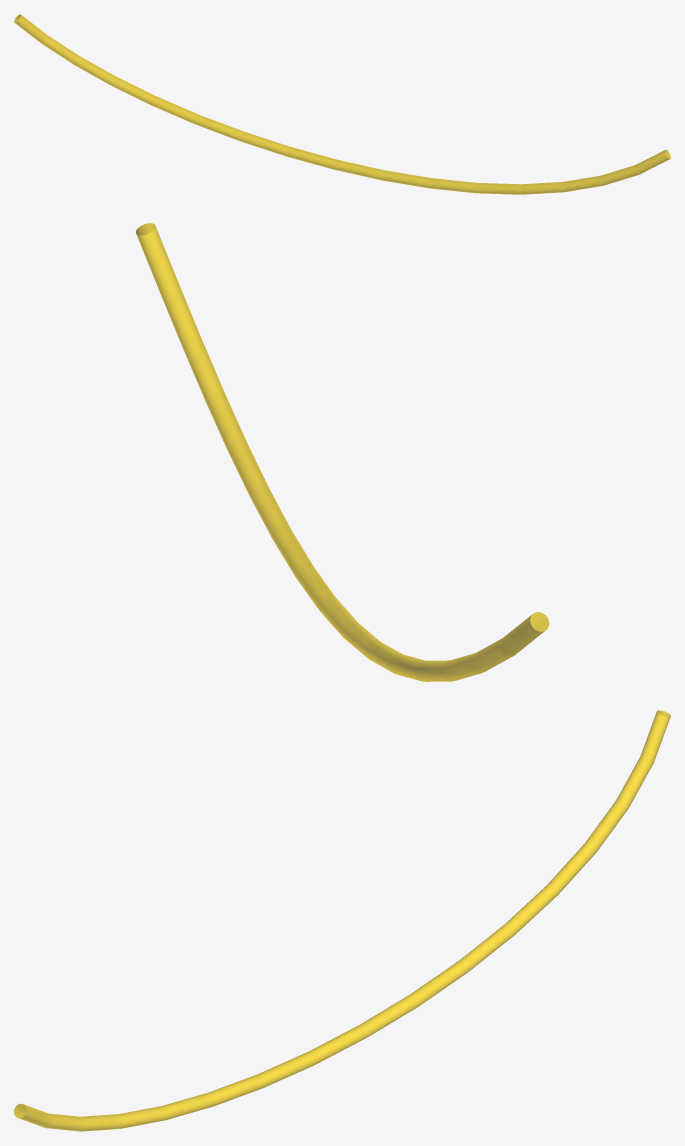
File: Event_17758602_track_128.fbx
3 views of the same model, one above another, from view 1: azimuth 30°, elevation 25°; view 2: azimuth 150°, elevation 25°; view 3: azimuth 270°, elevation 25° (orthographic). The views are drawn at different scales.
Parts seen in each view (by area): view 1: Model; view 2: Model; view 3: Model.
Boxes of the visible parts, <box> form: Model: <box>14,14,670,194</box>; Model: <box>135,223,549,681</box>; Model: <box>14,710,670,1131</box>.
Bounding box in the file's own units: 1.89 × 0.5654 × 1.76.
